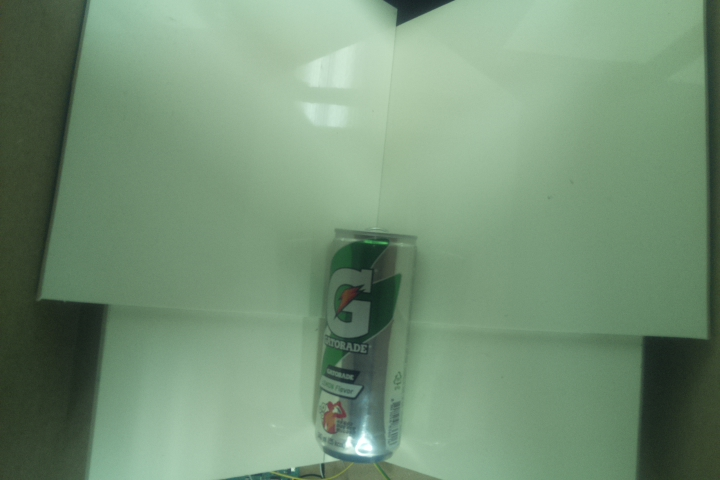can: (310, 226, 418, 466)
